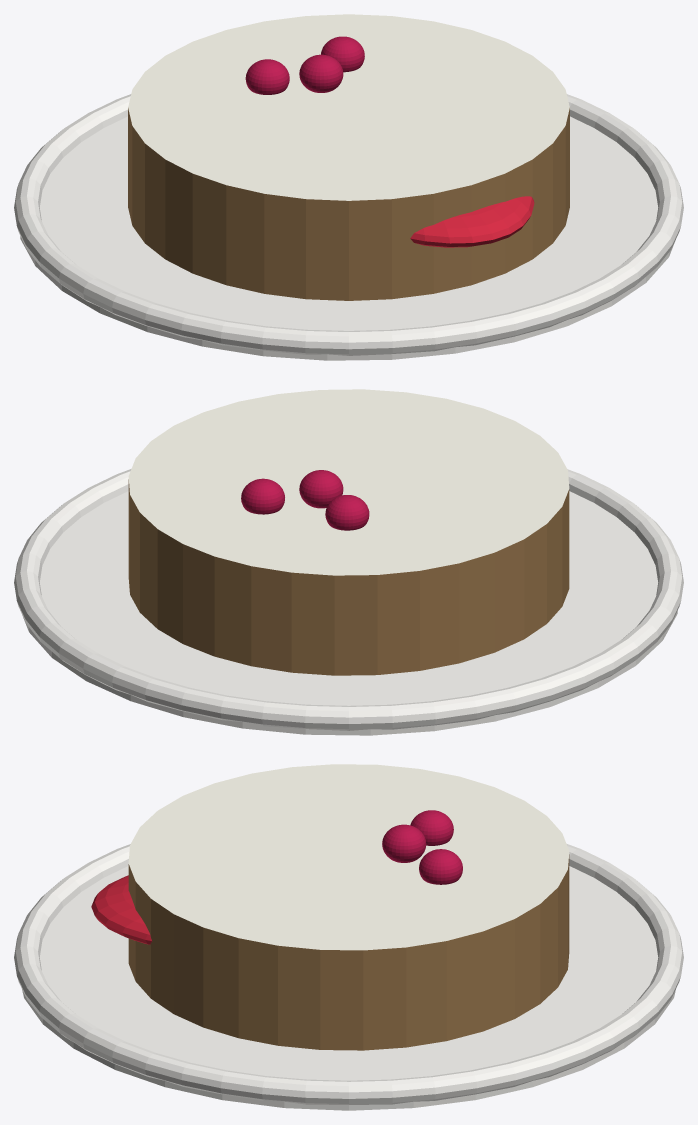
Rendered from cheesecake_ar.glb.
The picture shows the model from 3 angles, top to bottom: view 1: azimuth 30°, elevation 25°; view 2: azimuth 150°, elevation 25°; view 3: azimuth 270°, elevation 25°; orthographic projection.
Parts seen in each view (by area): view 1: CheesecakeSlice, Plate, PlateRim, RaspberrySauce, Raspberry_1, Raspberry_2, Raspberry_3; view 2: CheesecakeSlice, Plate, PlateRim, Raspberry_2, Raspberry_3, Raspberry_1; view 3: CheesecakeSlice, Plate, PlateRim, RaspberrySauce, Raspberry_1, Raspberry_3, Raspberry_2.
Boxes of the visible parts, <box> form: CheesecakeSlice: <box>128,14,569,300</box>; Plate: <box>20,116,675,360</box>; PlateRim: <box>14,94,683,355</box>; RaspberrySauce: <box>410,196,534,247</box>; Raspberry_1: <box>299,54,343,92</box>; Raspberry_2: <box>245,59,289,94</box>; Raspberry_3: <box>321,36,364,72</box>; CheesecakeSlice: <box>128,389,569,675</box>; Plate: <box>22,491,677,735</box>; PlateRim: <box>14,469,683,730</box>; Raspberry_2: <box>325,495,369,530</box>; Raspberry_3: <box>241,478,284,514</box>; Raspberry_1: <box>299,470,343,508</box>; CheesecakeSlice: <box>128,764,569,1050</box>; Plate: <box>22,866,675,1110</box>; PlateRim: <box>14,844,683,1104</box>; RaspberrySauce: <box>91,875,152,944</box>; Raspberry_1: <box>382,824,426,862</box>; Raspberry_3: <box>419,849,462,884</box>; Raspberry_2: <box>410,810,453,845</box>.
Size of the model in its own units: 3.64 by 0.862 by 3.64.
